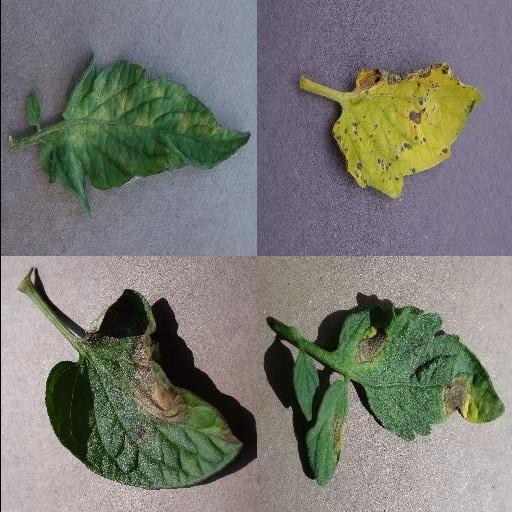Early Blight: (340, 300, 506, 440)
Late Blight: (43, 287, 245, 491)
Leaf Mold: (35, 54, 251, 220)
Septoria: (331, 62, 485, 200)
